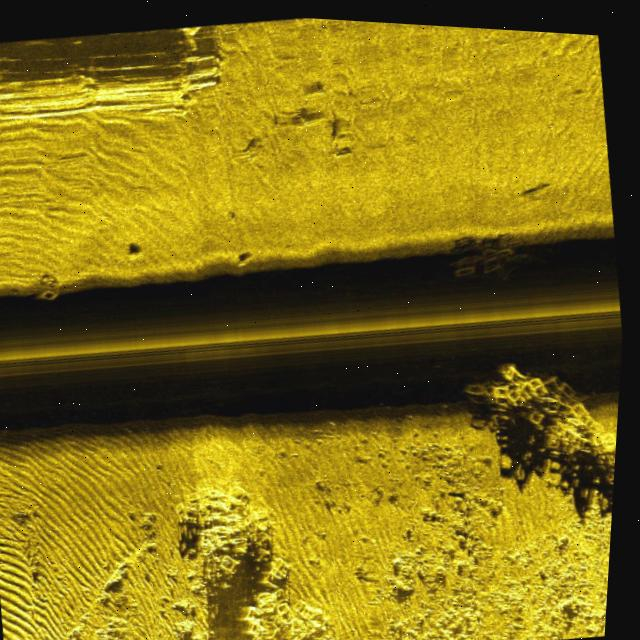artificial reef: (445, 337, 625, 484), (181, 478, 328, 640), (412, 206, 549, 303), (27, 265, 82, 308)
